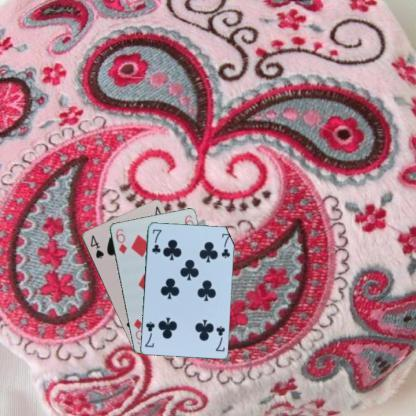4s: (87, 232, 105, 260)
6d: (114, 226, 128, 255)
7c: (148, 226, 162, 255), (212, 323, 226, 352)
